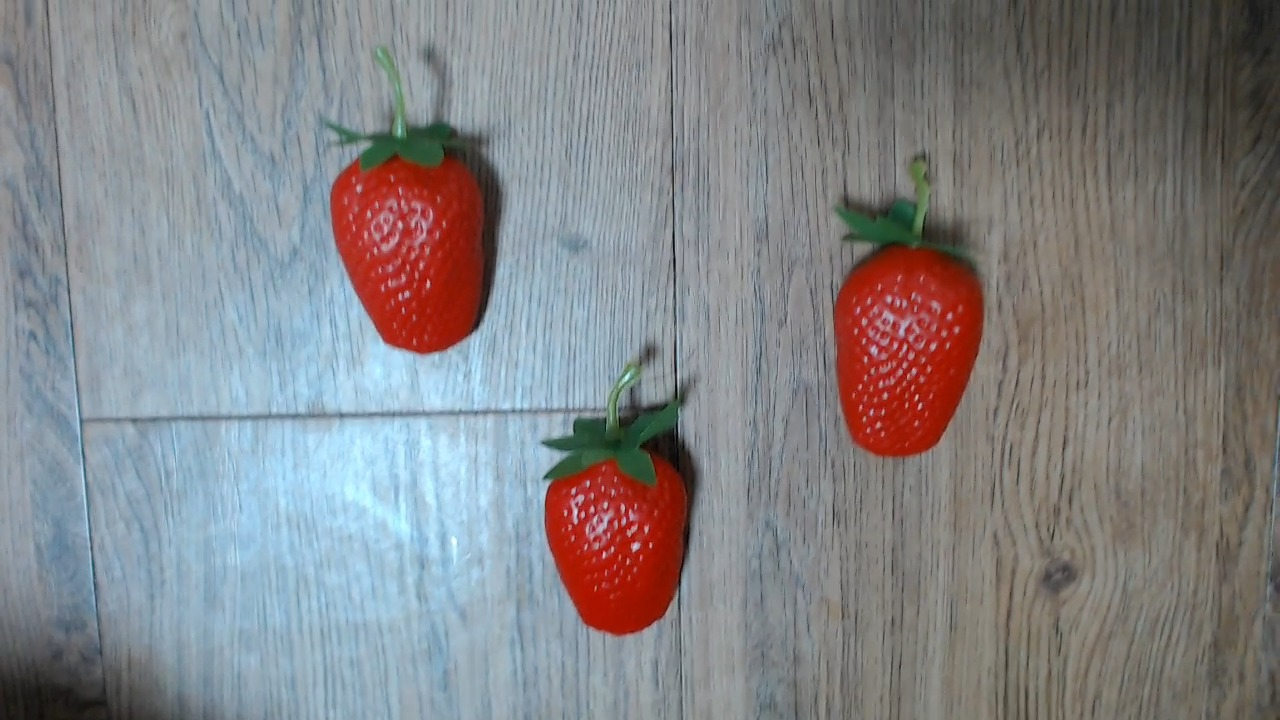strawberry: (819, 216, 1004, 469), (323, 116, 509, 359), (530, 424, 699, 639)
